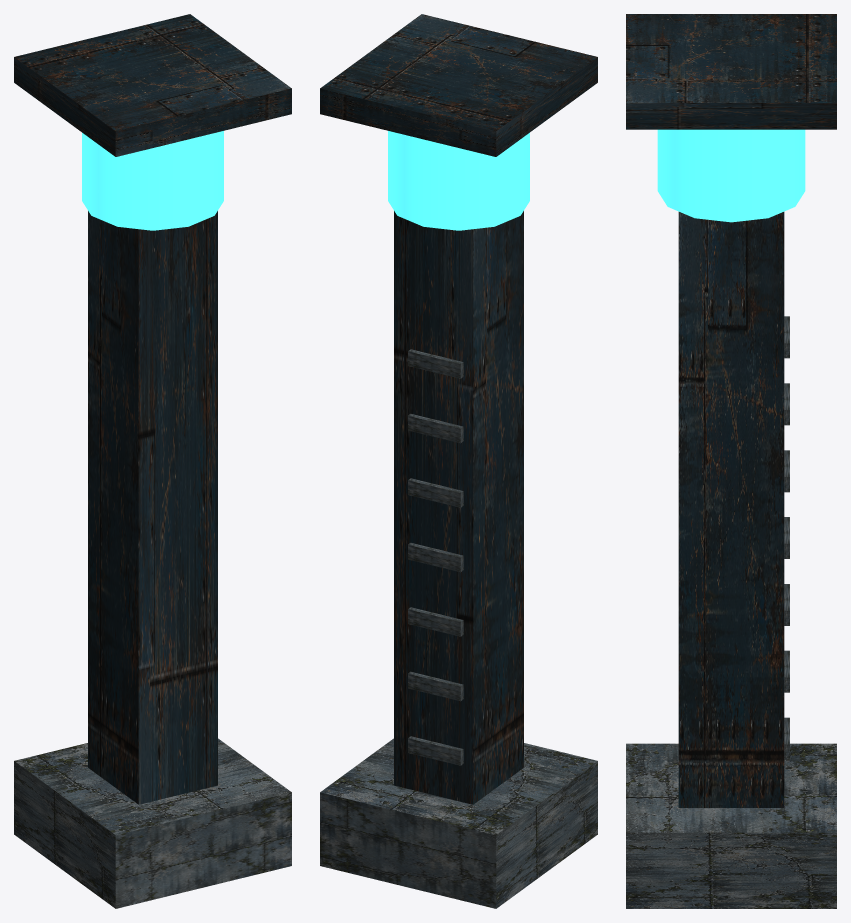
The model's file is flood-beacon.glb.
The picture shows the model from 3 angles, left to right: view 1: azimuth 30°, elevation 25°; view 2: azimuth 150°, elevation 25°; view 3: azimuth 270°, elevation 25°; orthographic projection. The views are drawn at different scales.
Visible parts, largest first — view 1: flood-beacon-steel, flood-beacon-concrete, flood-beacon-lamp; view 2: flood-beacon-steel, flood-beacon-concrete, flood-beacon-lamp; view 3: flood-beacon-steel, flood-beacon-concrete, flood-beacon-lamp.
Boxes of the visible parts, left/top/right/bottom form: flood-beacon-steel: left=14, top=14, right=291, bottom=804; flood-beacon-concrete: left=14, top=738, right=291, bottom=908; flood-beacon-lamp: left=82, top=131, right=223, bottom=230; flood-beacon-steel: left=320, top=14, right=597, bottom=804; flood-beacon-concrete: left=320, top=349, right=597, bottom=908; flood-beacon-lamp: left=388, top=131, right=529, bottom=230; flood-beacon-steel: left=626, top=14, right=836, bottom=807; flood-beacon-concrete: left=626, top=316, right=836, bottom=908; flood-beacon-lamp: left=657, top=129, right=805, bottom=222.
Bounding box in the file's own units: 1 × 4.22 × 1.
Materials: 3 (2 with a texture image).
